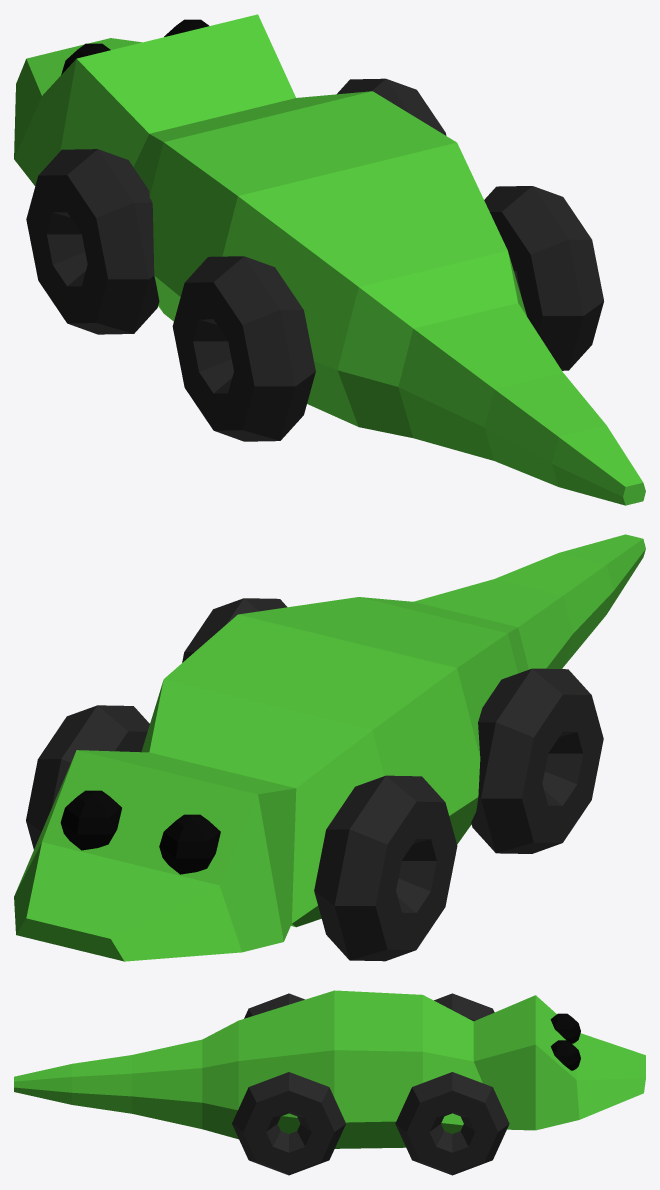
File: lizard.obj
3 views of the same model, one above another, from view 1: azimuth 30°, elevation 25°; view 2: azimuth 150°, elevation 25°; view 3: azimuth 270°, elevation 25° (orthographic). The views are drawn at different scales.
Parts seen in each view (by area): view 1: Body, Wheels, Eyes; view 2: Body, Wheels, Eyes; view 3: Body, Wheels, Eyes.
Part boxes in pixels (bbox=[...]): Body: bbox=[14, 14, 645, 505]; Wheels: bbox=[26, 78, 603, 441]; Eyes: bbox=[61, 19, 208, 74]; Body: bbox=[14, 534, 645, 961]; Wheels: bbox=[26, 598, 603, 961]; Eyes: bbox=[60, 790, 220, 874]; Body: bbox=[14, 990, 645, 1148]; Wheels: bbox=[232, 993, 509, 1175]; Eyes: bbox=[550, 1013, 580, 1070].
Bounding box in the file's own units: 3.94 × 2.25 × 11.06.
